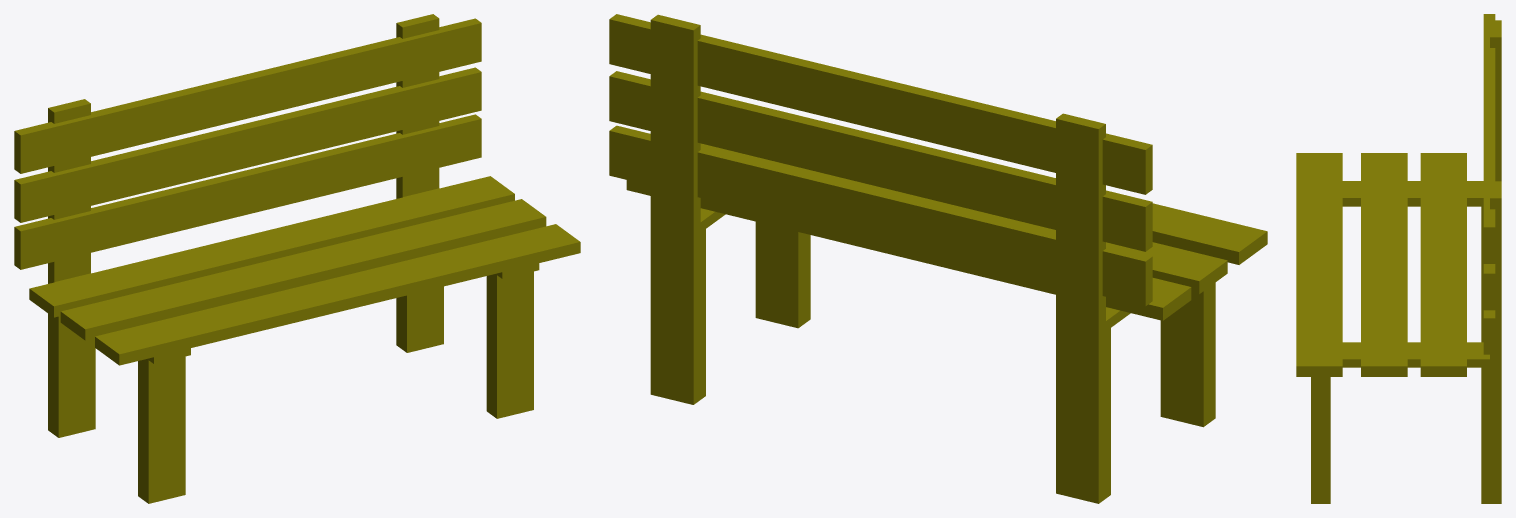
File: Bench.fbx
3 renders of one model, left to right at view 1: azimuth 30°, elevation 25°; view 2: azimuth 150°, elevation 25°; view 3: azimuth 270°, elevation 25°, orthographic. The views are drawn at different scales.
Visible parts, largest first — view 1: Bench1; view 2: Bench1; view 3: Bench1.
Part boxes in pixels (<box>): Bench1: <box>14,14,580,503</box>; Bench1: <box>609,14,1267,503</box>; Bench1: <box>1296,14,1501,503</box>.
Bounding box in the file's own units: 19.5 × 13.03 × 7.94.
